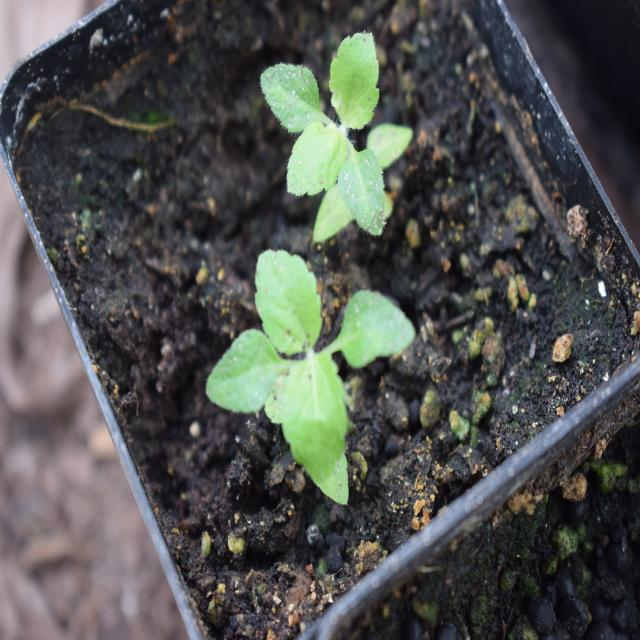billygoat_weed: (226, 234, 429, 490), (250, 25, 423, 256)
